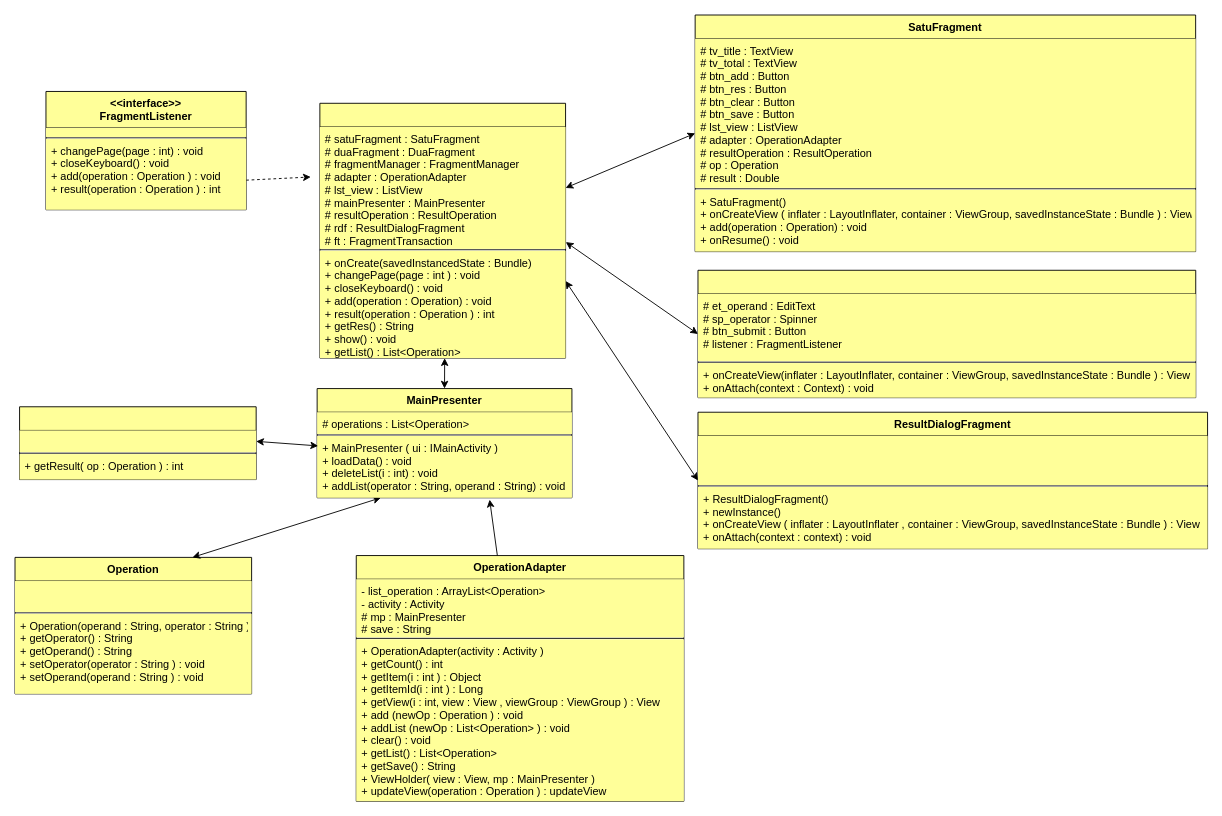
Some shapes in this 1222 by 816 pixel diagram are drawn without their labels. Here are the shapes that lost their labels. From the top down, the box of each, then its label:
(319, 102, 566, 358): MainActivity
(697, 269, 1196, 398): DuatFragment
(19, 430, 256, 452): # res : int
(19, 406, 256, 480): ResultOperation
(698, 435, 1207, 485): # listener : FragmentListener # btn_close : Button # tv_res : TextView
(15, 581, 251, 612): # operand : String # operator : String
